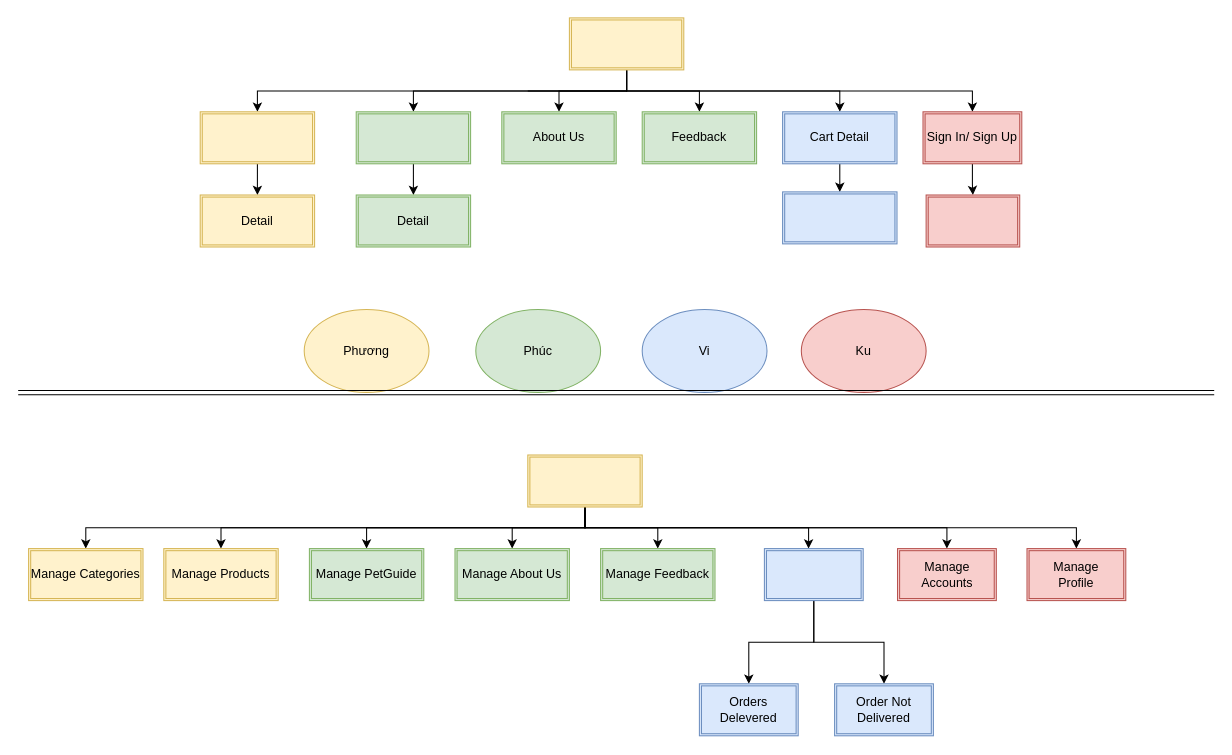
This 1232x755 diagram has some shape labels left out. The centre of each missing label's shape, as x and y in pixels:
"Administrator Dashboard" belongs at (x=584, y=480).
"Homepage (Guest)" belongs at (x=626, y=43).
"Manage Orders" belongs at (x=813, y=574).
"Payment Info" belongs at (x=839, y=217).
"PetGuide" belongs at (x=413, y=137).
"PetMart (products)" belongs at (x=257, y=137).
"Profile Manager" belongs at (x=972, y=220).
